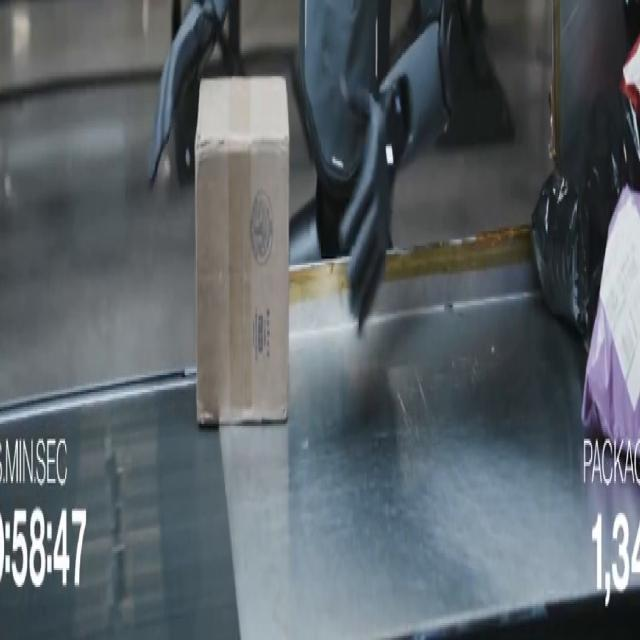package: (196, 77, 289, 425), (532, 90, 639, 341), (583, 189, 639, 442), (621, 39, 639, 112), (624, 0, 639, 48)
